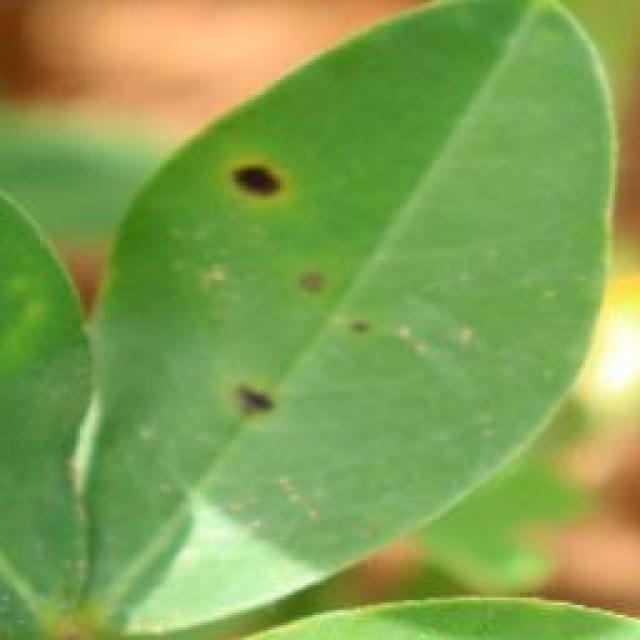Sigatoka: (210, 146, 310, 250), (283, 266, 383, 356), (198, 359, 299, 439)
